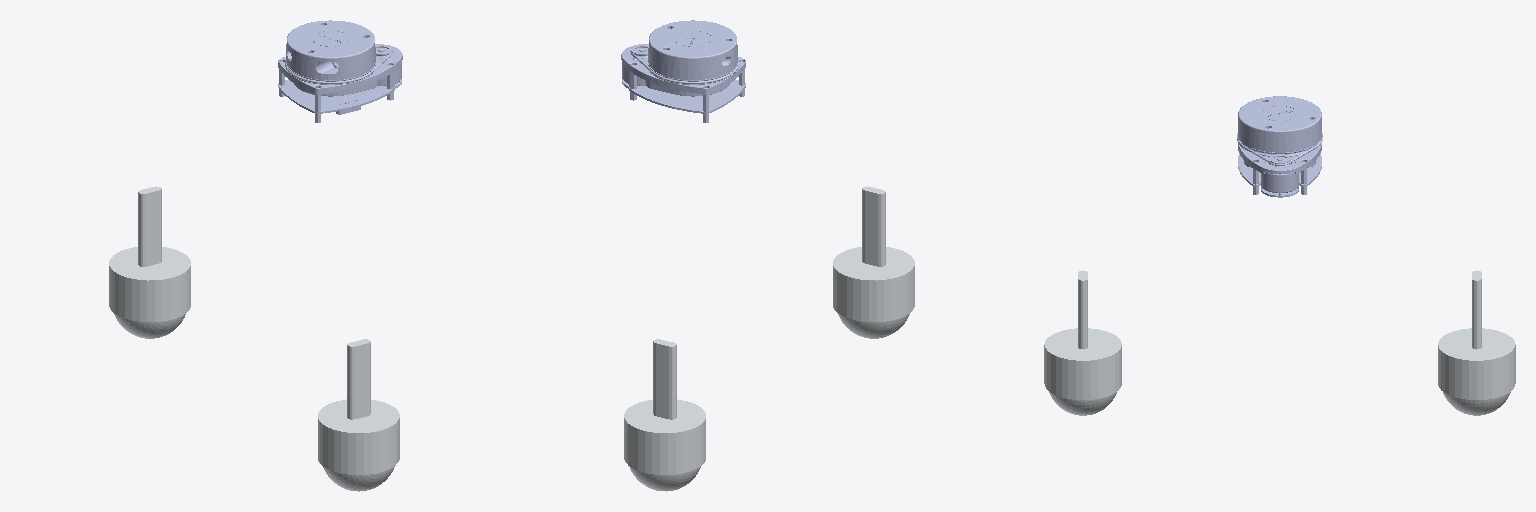
URDF robot description (lide):
<?xml version="1.0" encoding="utf-8"?>
<!-- This URDF was automatically created by SolidWorks to URDF Exporter! Originally created by [author] ([email redacted]) 
     Commit Version: 1.5.1-0-g916b5db  Build Version: 1.5.7152.31018
     For more information, please see http://wiki.ros.org/sw_urdf_exporter -->
<robot
  name="lide">
  <link
    name="base_link">
    <inertial>
      <origin
        xyz="-0.115823845803328 0.0844461093702982 0.0471980144973141"
        rpy="0 0 0" />
      <mass
        value="3.17049103377095" />
      <inertia
        ixx="0.00756848298117278"
        ixy="-5.47577884760089E-07"
        ixz="-1.1598651509817E-05"
        iyy="0.00567333147151148"
        iyz="-3.00885497222152E-07"
        izz="0.0125111608554953" />
    </inertial>
    <visual>
      <origin
        xyz="0 0 0"
        rpy="0 0 0" />
      <geometry>
        <mesh
          filename="package://lide/meshes/base_link.STL" />
      </geometry>
      <material
        name="">
        <color
          rgba="0.752941176470588 0.752941176470588 0.752941176470588 1" />
      </material>
    </visual>
    <collision>
      <origin
        xyz="0 0 0"
        rpy="0 0 0" />
      <geometry>
        <mesh
          filename="package://lide/meshes/base_link.STL" />
      </geometry>
    </collision>
  </link>
  <link
    name="LFS">
    <inertial>
      <origin
        xyz="0.0455604268709419 0.00830943309140329 0.00297622851896683"
        rpy="0 0 0" />
      <mass
        value="0.0727928435161987" />
      <inertia
        ixx="2.20927876796313E-05"
        ixy="-1.64845302056352E-08"
        ixz="-1.56454773175211E-07"
        iyy="1.62632133784213E-05"
        iyz="2.96411876511624E-09"
        izz="1.80843397531752E-05" />
    </inertial>
    <visual>
      <origin
        xyz="0 0 0"
        rpy="0 0 0" />
      <geometry>
        <mesh
          filename="package://lide/meshes/LFS.STL" />
      </geometry>
      <material
        name="">
        <color
          rgba="0.752941176470588 0.752941176470588 0.752941176470588 1" />
      </material>
    </visual>
    <collision>
      <origin
        xyz="0 0 0"
        rpy="0 0 0" />
      <geometry>
        <mesh
          filename="package://lide/meshes/LFS.STL" />
      </geometry>
    </collision>
  </link>
  <joint
    name="LFS"
    type="fixed">
    <origin
      xyz="-0.054044 0.20015 -0.036503"
      rpy="1.5708 0 1.5708" />
    <parent
      link="base_link" />
    <child
      link="LFS" />
    <axis
      xyz="0 0 0" />
  </joint>
  <link
    name="LFW">
    <inertial>
      <origin
        xyz="0.015 0 2.60208521396521E-18"
        rpy="0 0 0" />
      <mass
        value="0.767080911081153" />
      <inertia
        ixx="0.00116426102407189"
        ixy="-1.25105048588129E-22"
        ixz="-1.83311841364852E-20"
        iyy="0.000639661580367031"
        iyz="-3.3881317890172E-21"
        izz="0.000639661580367032" />
    </inertial>
    <visual>
      <origin
        xyz="0 0 0"
        rpy="0 0 0" />
      <geometry>
        <mesh
          filename="package://lide/meshes/LFW.STL" />
      </geometry>
      <material
        name="">
        <color
          rgba="0.898039215686275 0.917647058823529 0.929411764705882 1" />
      </material>
    </visual>
    <collision>
      <origin
        xyz="0 0 0"
        rpy="0 0 0" />
      <geometry>
        <mesh
          filename="package://lide/meshes/LFW.STL" />
      </geometry>
    </collision>
  </link>
  <joint
    name="LFW"
    type="continuous">
    <origin
      xyz="0.063346 -0.006798 0.015044"
      rpy="-1.6264 0 0" />
    <parent
      link="LFS" />
    <child
      link="LFW" />
    <axis
      xyz="1 0 0" />
    <limit
      effort="3.1"
      velocity="7" />
  </joint>
  <link
    name="RFS">
    <inertial>
      <origin
        xyz="-0.0191828308457407 -0.00900932874707057 0.0520056318885905"
        rpy="0 0 0" />
      <mass
        value="0.0727928435161986" />
      <inertia
        ixx="2.20927876796313E-05"
        ixy="-1.64845302056319E-08"
        ixz="1.56454773175213E-07"
        iyy="1.62632133784213E-05"
        iyz="-2.9641187651064E-09"
        izz="1.80843397531752E-05" />
    </inertial>
    <visual>
      <origin
        xyz="0 0 0"
        rpy="0 0 0" />
      <geometry>
        <mesh
          filename="package://lide/meshes/RFS.STL" />
      </geometry>
      <material
        name="">
        <color
          rgba="0.752941176470588 0.752941176470588 0.752941176470588 1" />
      </material>
    </visual>
    <collision>
      <origin
        xyz="0 0 0"
        rpy="0 0 0" />
      <geometry>
        <mesh
          filename="package://lide/meshes/RFS.STL" />
      </geometry>
    </collision>
  </link>
  <joint
    name="RFS"
    type="fixed">
    <origin
      xyz="-0.10307 -0.060531 -0.019216"
      rpy="1.5708 0 1.5708" />
    <parent
      link="base_link" />
    <child
      link="RFS" />
    <axis
      xyz="0 0 0" />
  </joint>
  <link
    name="RFW">
    <inertial>
      <origin
        xyz="-0.015 1.0842021724855E-19 0"
        rpy="0 0 0" />
      <mass
        value="0.767080911081152" />
      <inertia
        ixx="0.00116426102407189"
        ixy="-5.00173420246734E-37"
        ixz="4.60638074444741E-39"
        iyy="0.000639661580367031"
        iyz="-2.21718708608611E-36"
        izz="0.000639661580367031" />
    </inertial>
    <visual>
      <origin
        xyz="0 0 0"
        rpy="0 0 0" />
      <geometry>
        <mesh
          filename="package://lide/meshes/RFW.STL" />
      </geometry>
      <material
        name="">
        <color
          rgba="0.898039215686275 0.917647058823529 0.929411764705882 1" />
      </material>
    </visual>
    <collision>
      <origin
        xyz="0 0 0"
        rpy="0 0 0" />
      <geometry>
        <mesh
          filename="package://lide/meshes/RFW.STL" />
      </geometry>
    </collision>
  </link>
  <joint
    name="RFW"
    type="continuous">
    <origin
      xyz="-0.036969 -0.024084 0.064073"
      rpy="0 0 0" />
    <parent
      link="RFS" />
    <child
      link="RFW" />
    <axis
      xyz="1 0 0" />
    <limit
      effort="3.1"
      velocity="7" />
  </joint>
  <link
    name="LBS">
    <inertial>
      <origin
        xyz="0 -0.0379118055572974 -2.77555756156289E-17"
        rpy="0 0 0" />
      <mass
        value="0.267907831135781" />
      <inertia
        ixx="0.000143692176240137"
        ixy="-1.61658416696391E-20"
        ixz="3.3708933537889E-20"
        iyy="0.000133232444751409"
        iyz="-1.55548647157759E-20"
        izz="0.000142591850334766" />
    </inertial>
    <visual>
      <origin
        xyz="0 0 0"
        rpy="0 0 0" />
      <geometry>
        <mesh
          filename="package://lide/meshes/LBS.STL" />
      </geometry>
      <material
        name="">
        <color
          rgba="0.898039215686275 0.917647058823529 0.929411764705882 1" />
      </material>
    </visual>
    <collision>
      <origin
        xyz="0 0 0"
        rpy="0 0 0" />
      <geometry>
        <mesh
          filename="package://lide/meshes/LBS.STL" />
      </geometry>
    </collision>
  </link>
  <joint
    name="LBS"
    type="fixed">
    <origin
      xyz="-0.202 0.24575 -0.014362"
      rpy="1.5708 0 1.5708" />
    <parent
      link="base_link" />
    <child
      link="LBS" />
    <axis
      xyz="0 0 0" />
  </joint>
  <link
    name="RBS">
    <inertial>
      <origin
        xyz="1.38777878078145E-17 -0.0379118055572974 2.77555756156289E-17"
        rpy="0 0 0" />
      <mass
        value="0.267907831135781" />
      <inertia
        ixx="0.000143692176240137"
        ixy="2.9414871020019E-20"
        ixz="1.51976637503567E-20"
        iyy="0.000133232444751409"
        iyz="-1.56191406706292E-20"
        izz="0.000142591850334766" />
    </inertial>
    <visual>
      <origin
        xyz="0 0 0"
        rpy="0 0 0" />
      <geometry>
        <mesh
          filename="package://lide/meshes/RBS.STL" />
      </geometry>
      <material
        name="">
        <color
          rgba="0.898039215686275 0.917647058823529 0.929411764705882 1" />
      </material>
    </visual>
    <collision>
      <origin
        xyz="0 0 0"
        rpy="0 0 0" />
      <geometry>
        <mesh
          filename="package://lide/meshes/RBS.STL" />
      </geometry>
    </collision>
  </link>
  <joint
    name="RBS"
    type="fixed">
    <origin
      xyz="-0.202 -0.07975 -0.014362"
      rpy="1.5708 0 1.5708" />
    <parent
      link="base_link" />
    <child
      link="RBS" />
    <axis
      xyz="0 0 0" />
  </joint>
  <link
    name="fcam">
    <inertial>
      <origin
        xyz="-0.0115544746517359 -2.64429642851671E-06 0.00129029302682182"
        rpy="0 0 0" />
      <mass
        value="0.0436119957238951" />
      <inertia
        ixx="2.35707061906176E-05"
        ixy="-1.01842273867646E-09"
        ixz="2.17585832536696E-08"
        iyy="4.29479050056029E-06"
        iyz="-8.8501811870376E-10"
        izz="2.21058153511886E-05" />
    </inertial>
    <visual>
      <origin
        xyz="0 0 0"
        rpy="0 0 0" />
      <geometry>
        <mesh
          filename="package://lide/meshes/fcam.STL" />
      </geometry>
      <material
        name="">
        <color
          rgba="0.792156862745098 0.819607843137255 0.933333333333333 1" />
      </material>
    </visual>
    <collision>
      <origin
        xyz="0 0 0"
        rpy="0 0 0" />
      <geometry>
        <mesh
          filename="package://lide/meshes/fcam.STL" />
      </geometry>
    </collision>
  </link>
  <joint
    name="fcam"
    type="fixed">
    <origin
      xyz="-0.0038823 0.083 0.12982"
      rpy="0 0.2618 0" />
    <parent
      link="base_link" />
    <child
      link="fcam" />
    <axis
      xyz="0 0 0" />
  </joint>
  <link
    name="bcam">
    <inertial>
      <origin
        xyz="-0.0201034645299101 -2.64354903260766E-06 -0.007258695056636"
        rpy="0 0 0" />
      <mass
        value="0.0436119949785284" />
      <inertia
        ixx="2.357070560996E-05"
        ixy="-1.01834758005789E-09"
        ixz="2.17579332532706E-08"
        iyy="4.29479078276664E-06"
        iyz="-8.85484503941633E-10"
        izz="2.21058144654637E-05" />
    </inertial>
    <visual>
      <origin
        xyz="0 0 0"
        rpy="0 0 0" />
      <geometry>
        <mesh
          filename="package://lide/meshes/bcam.STL" />
      </geometry>
      <material
        name="">
        <color
          rgba="0.792156862745098 0.819607843137255 0.933333333333333 1" />
      </material>
    </visual>
    <collision>
      <origin
        xyz="0 0 0"
        rpy="0 0 0" />
      <geometry>
        <mesh
          filename="package://lide/meshes/bcam.STL" />
      </geometry>
    </collision>
  </link>
  <joint
    name="bcam"
    type="fixed">
    <origin
      xyz="0 0.083 0.091232"
      rpy="0 0.7854 0" />
    <parent
      link="base_link" />
    <child
      link="bcam" />
    <axis
      xyz="0 0 0" />
  </joint>
  <link
    name="Lidar">
    <inertial>
      <origin
        xyz="0.013523359590981 0.000461955963376282 -0.0287648854974011"
        rpy="0 0 0" />
      <mass
        value="0.0730845717051193" />
      <inertia
        ixx="1.95808757063097E-05"
        ixy="-1.03933582026919E-07"
        ixz="-4.28391168330414E-07"
        iyy="2.41250079684553E-05"
        iyz="9.42710505720655E-09"
        izz="4.14184516030622E-05" />
    </inertial>
    <visual>
      <origin
        xyz="0 0 0"
        rpy="0 0 0" />
      <geometry>
        <mesh
          filename="package://lide/meshes/Lidar.STL" />
      </geometry>
      <material
        name="">
        <color
          rgba="0.792156862745098 0.819607843137255 0.933333333333333 1" />
      </material>
    </visual>
    <collision>
      <origin
        xyz="0 0 0"
        rpy="0 0 0" />
      <geometry>
        <mesh
          filename="package://lide/meshes/Lidar.STL" />
      </geometry>
    </collision>
  </link>
  <joint
    name="Lidar"
    type="fixed">
    <origin
      xyz="-0.13458 0.082006 0.2065"
      rpy="0 0 0" />
    <parent
      link="base_link" />
    <child
      link="Lidar" />
    <axis
      xyz="0 0 0" />
  </joint>
  <link
    name="imu_link">
    <inertial>
      <origin
        xyz="0.00291084634946051 6.23984008059492E-05 -0.0010337757523434"
        rpy="0 0 0" />
      <mass
        value="0.00189180567975737" />
      <inertia
        ixx="7.79431263454134E-08"
        ixy="1.3921419055649E-10"
        ixz="1.54511633252894E-11"
        iyy="4.85473464623124E-08"
        iyz="-6.30099051334842E-11"
        izz="1.25233585370532E-07" />
    </inertial>
    <visual>
      <origin
        xyz="0 0 0"
        rpy="0 0 0" />
      <geometry>
        <mesh
          filename="package://lide/meshes/imu_link.STL" />
      </geometry>
      <material
        name="">
        <color
          rgba="0.898039215686275 0.917647058823529 0.929411764705882 1" />
      </material>
    </visual>
    <collision>
      <origin
        xyz="0 0 0"
        rpy="0 0 0" />
      <geometry>
        <mesh
          filename="package://lide/meshes/imu_link.STL" />
      </geometry>
    </collision>
  </link>
  <joint
    name="imu_link"
    type="fixed">
    <origin
      xyz="-0.040625 0.083 0.155"
      rpy="0 0 0" />
    <parent
      link="base_link" />
    <child
      link="imu_link" />
    <axis
      xyz="0 0 0" />
  </joint>
</robot>

--- Facts derived from the render (not from the file) ---
3 views of the same robot in one strip: view 1: azimuth 30°, elevation 25°; view 2: azimuth 150°, elevation 25°; view 3: azimuth 270°, elevation 25° (orthographic).
Robot: lide — 11 links, 10 joints (2 continuous, 8 fixed); root link base_link; default pose: every joint at zero.
Visible links, largest first — view 1: Lidar, LBS, RBS; view 2: Lidar, LBS, RBS; view 3: Lidar, RBS, LBS.
Link boxes in pixels (x1=…): Lidar: x1=278, y1=20, x2=402, y2=122; LBS: x1=109, y1=186, x2=190, y2=338; RBS: x1=318, y1=339, x2=399, y2=491; Lidar: x1=621, y1=20, x2=745, y2=122; LBS: x1=624, y1=339, x2=705, y2=491; RBS: x1=833, y1=186, x2=914, y2=338; Lidar: x1=1237, y1=96, x2=1322, y2=197; RBS: x1=1044, y1=271, x2=1121, y2=415; LBS: x1=1438, y1=271, x2=1515, y2=415.
Size in the robot's own frame: 0.1625 by 0.3895 by 0.3047 metres.
3 mesh visuals loaded from 11 distinct referenced files (3 binary STL); not drawn: 8 (reference not matched to a file when rendering).